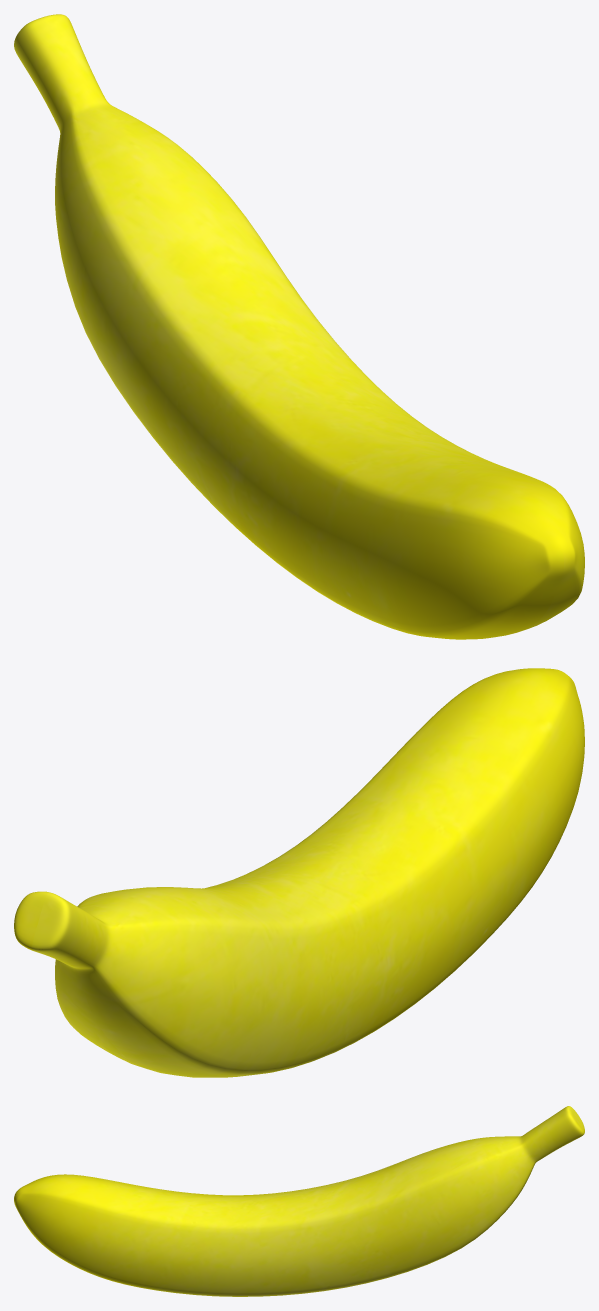
File: plaatano.obj
3 renders of one model, top to bottom at view 1: azimuth 30°, elevation 25°; view 2: azimuth 150°, elevation 25°; view 3: azimuth 270°, elevation 25°, orthographic. The views are drawn at different scales.
Visible parts, largest first — view 1: Banana_low_Mesh; view 2: Banana_low_Mesh; view 3: Banana_low_Mesh.
Boxes of the visible parts, x1=… form: Banana_low_Mesh: x1=14, y1=14, x2=584, y2=639; Banana_low_Mesh: x1=14, y1=668, x2=584, y2=1077; Banana_low_Mesh: x1=14, y1=1106, x2=584, y2=1296.
Size of the model in its own units: 0.4503 by 0.9187 by 2.62.
1 material, 1 textured.
